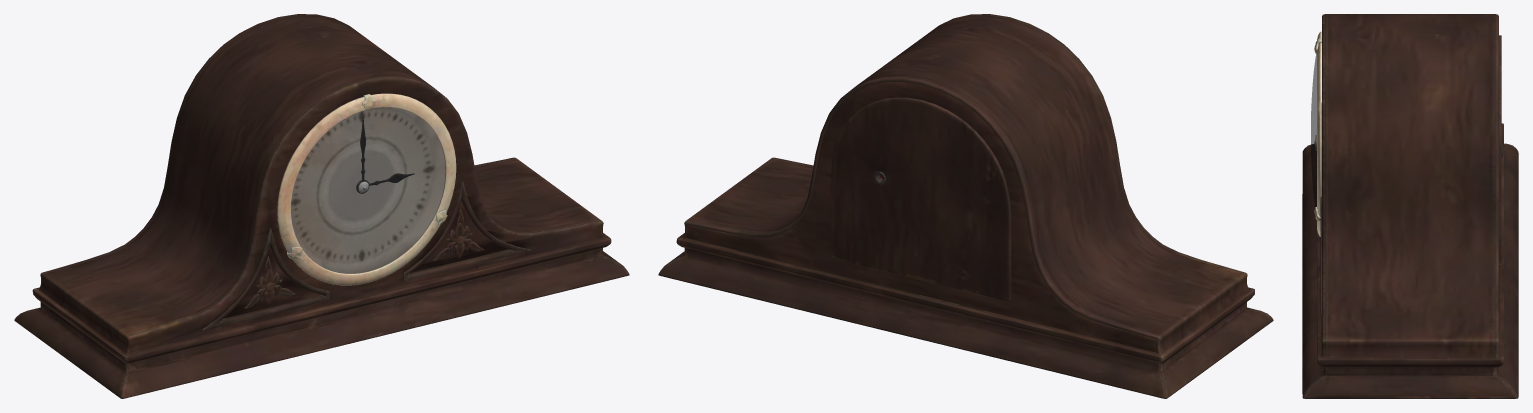
File: mantel_clock_01.glb
3 renders of one model, left to right at view 1: azimuth 30°, elevation 25°; view 2: azimuth 150°, elevation 25°; view 3: azimuth 270°, elevation 25°, orthographic.
Visible parts, largest first — view 1: mantel_clock_01, mantel_clock_01_glass; view 2: mantel_clock_01; view 3: mantel_clock_01, mantel_clock_01_glass.
Boxes of the visible parts, <box> form: mantel_clock_01: <box>14,14,629,398</box>; mantel_clock_01_glass: <box>291,107,445,273</box>; mantel_clock_01: <box>658,14,1273,398</box>; mantel_clock_01: <box>1302,14,1518,398</box>; mantel_clock_01_glass: <box>1311,54,1316,207</box>.
Size of the model in its own units: 0.3423 by 0.1605 by 0.1262.
2 materials, 2 textured.
